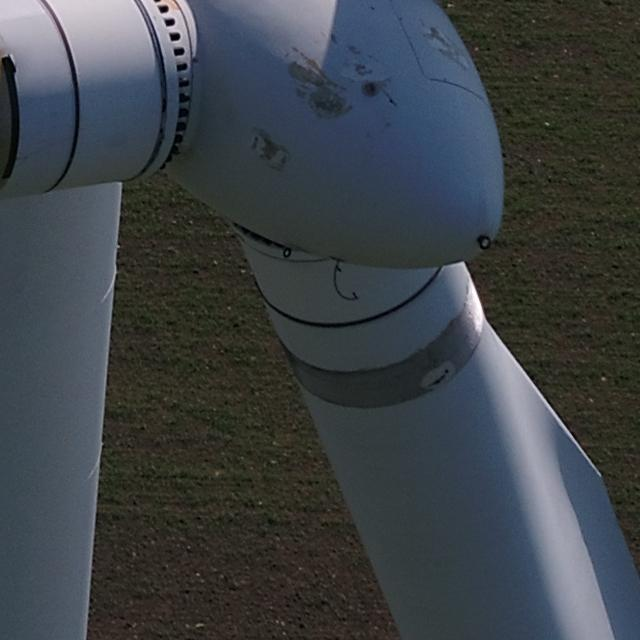damage: (248, 125, 292, 168), (310, 88, 356, 125), (286, 59, 325, 86), (421, 24, 449, 47), (294, 85, 307, 102), (325, 30, 340, 44)
